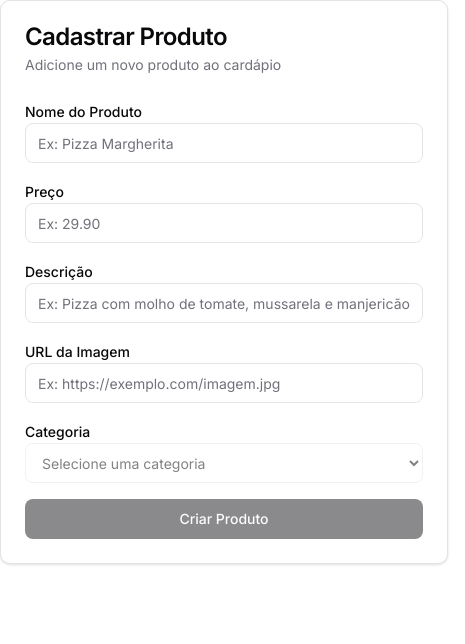
RF03 - Funcionalidade de Gerenciamento de Produtos › Cenário 1: Criar produto com dados válidos › deve criar produto e exibir mensagem de sucesso
Expected: the button "Criar Produto" is shown, top-left (25, 499), bottom-right (423, 539)
In the field labelled "Nome do Produto": (224, 143) top-left (25, 123), bottom-right (423, 163), type "Pizza Margherita"
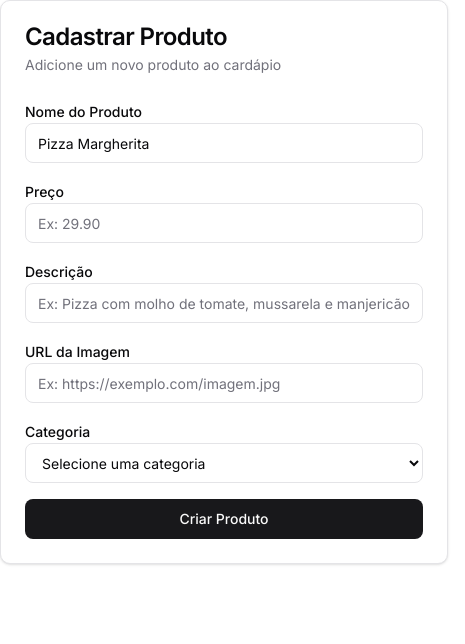
In the field labelled "Preço": (224, 223) top-left (25, 203), bottom-right (423, 243), type "29.90"
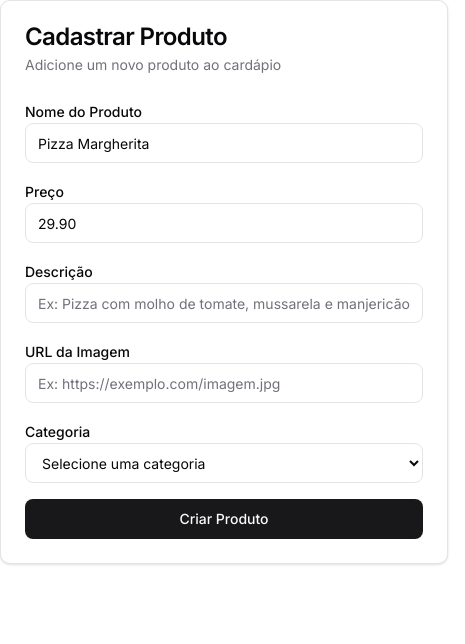
In the field labelled "Descrição": (224, 303) top-left (25, 283), bottom-right (423, 323), type "Pizza tradicional italiana"
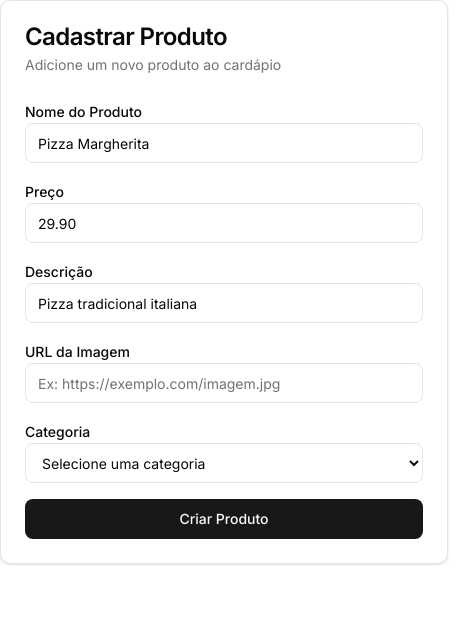
Select "Pratos" in the dropdown labelled "Categoria": (224, 463) top-left (25, 443), bottom-right (423, 483)
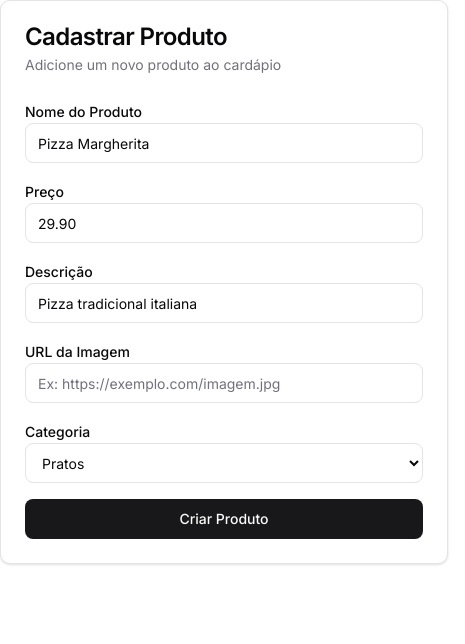
Click the button "Criar Produto": (224, 519) top-left (25, 499), bottom-right (423, 539)
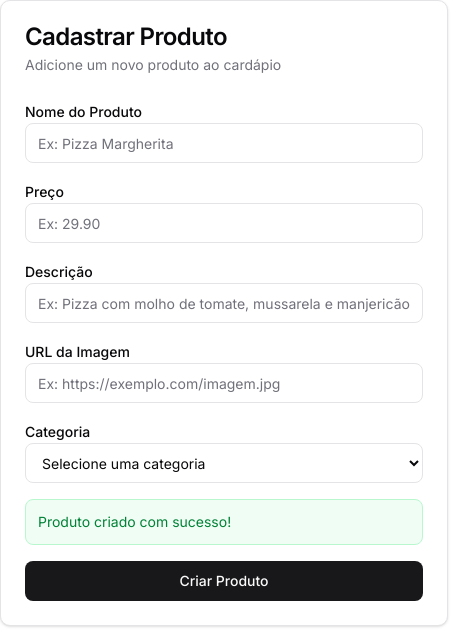
Now the text "Produto criado com sucesso!" is shown, box top-left (25, 499), bottom-right (423, 545)
Now the field labelled "Nome do Produto" is empty, box top-left (25, 123), bottom-right (423, 163)
